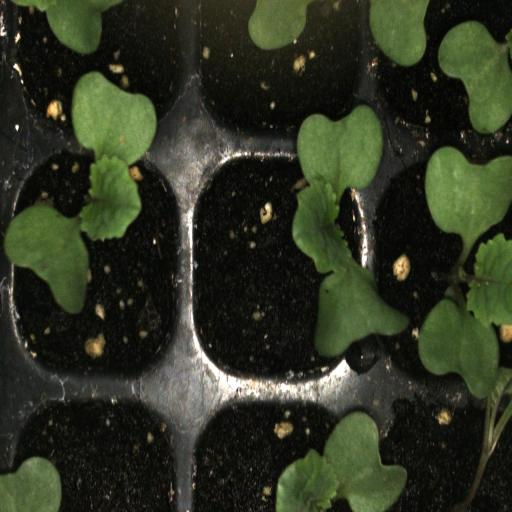seedling: (190, 140, 373, 397), (6, 143, 190, 385), (372, 137, 512, 382)
